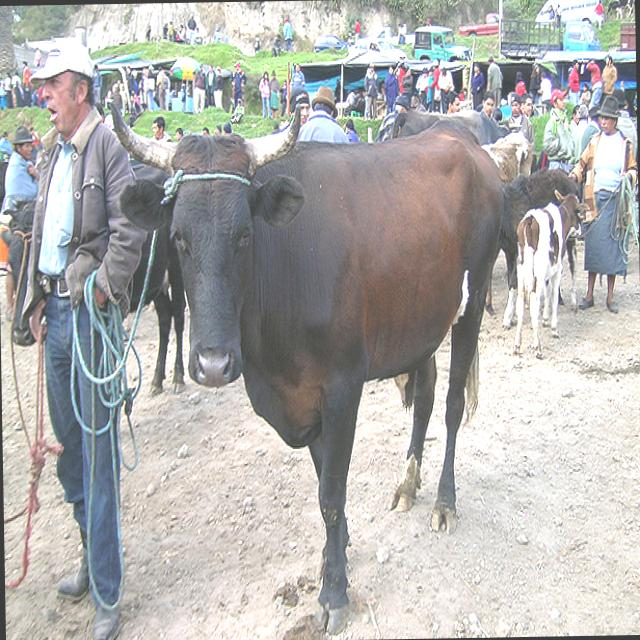Vehicle: (499, 18, 602, 58), (410, 24, 472, 62), (533, 0, 601, 24), (348, 36, 408, 62), (458, 12, 498, 36), (358, 26, 398, 46), (312, 34, 346, 55), (617, 21, 635, 49)
